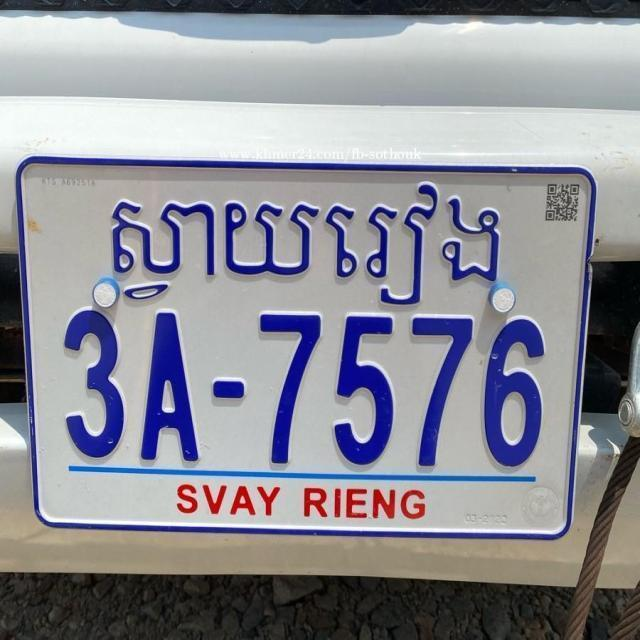Svay_Rieng: (103, 176, 514, 308)
